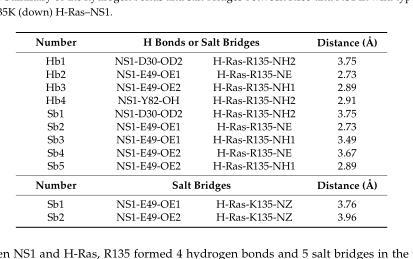table: (34, 34, 376, 222)
table column: (196, 34, 305, 222), (94, 34, 196, 222), (305, 34, 376, 222), (34, 34, 94, 222)
table row: (34, 174, 376, 193), (34, 34, 376, 51), (34, 158, 376, 174), (34, 193, 376, 209), (34, 51, 376, 66), (34, 79, 376, 93), (34, 66, 376, 79), (34, 93, 376, 106), (34, 106, 376, 119), (34, 119, 376, 132), (34, 132, 376, 145), (34, 145, 376, 158), (34, 209, 376, 222)
table spanning cell: (94, 174, 305, 193), (94, 34, 305, 51)
